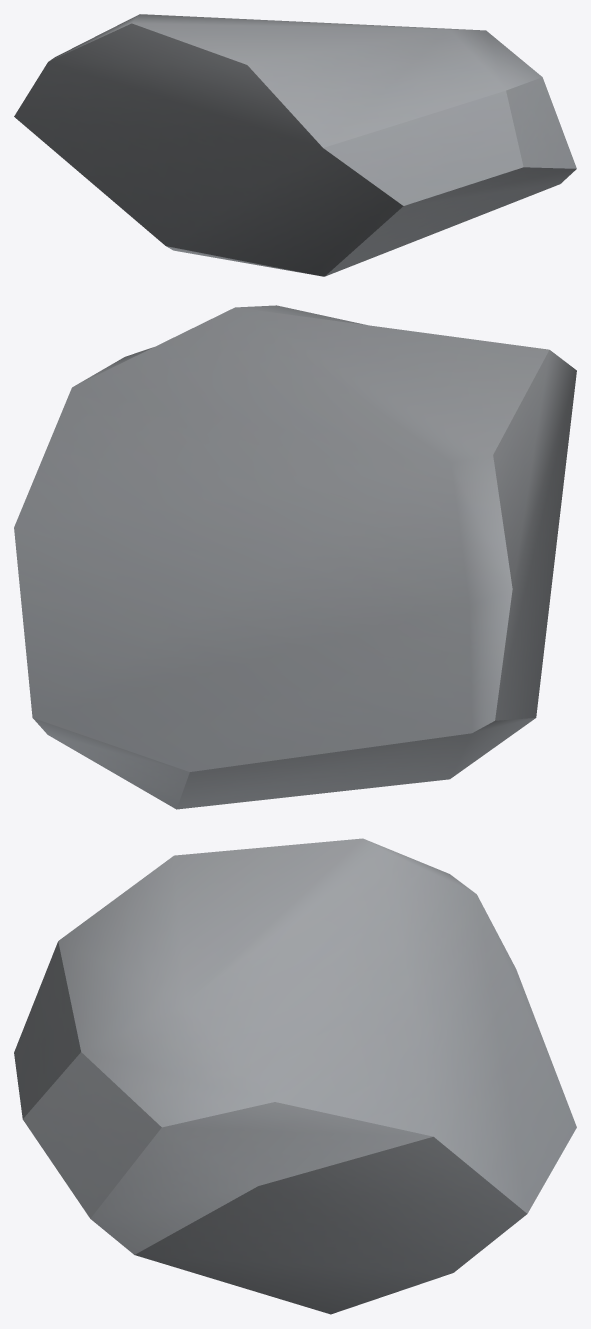
File: rocaRedonda.fbx
The picture shows the model from 3 angles, top to bottom: view 1: azimuth 30°, elevation 25°; view 2: azimuth 150°, elevation 25°; view 3: azimuth 270°, elevation 25°; orthographic projection. The views are drawn at different scales.
Visible parts, largest first — view 1: rocaRedonda; view 2: rocaRedonda; view 3: rocaRedonda.
Part boxes in pixels (x1,y1,x2,y2): rocaRedonda: [14, 14, 576, 276]; rocaRedonda: [14, 305, 576, 809]; rocaRedonda: [14, 838, 576, 1314].
Size of the model in its own units: 84.16 by 55.11 by 83.57.
